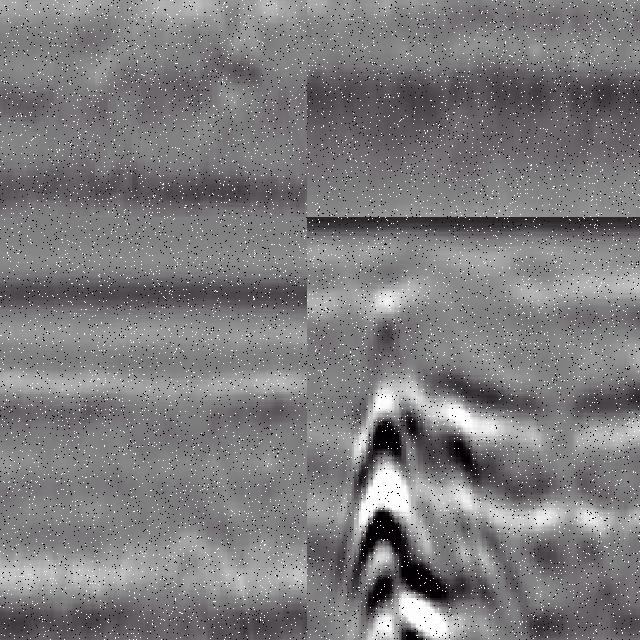loose: (329, 314, 640, 640)
